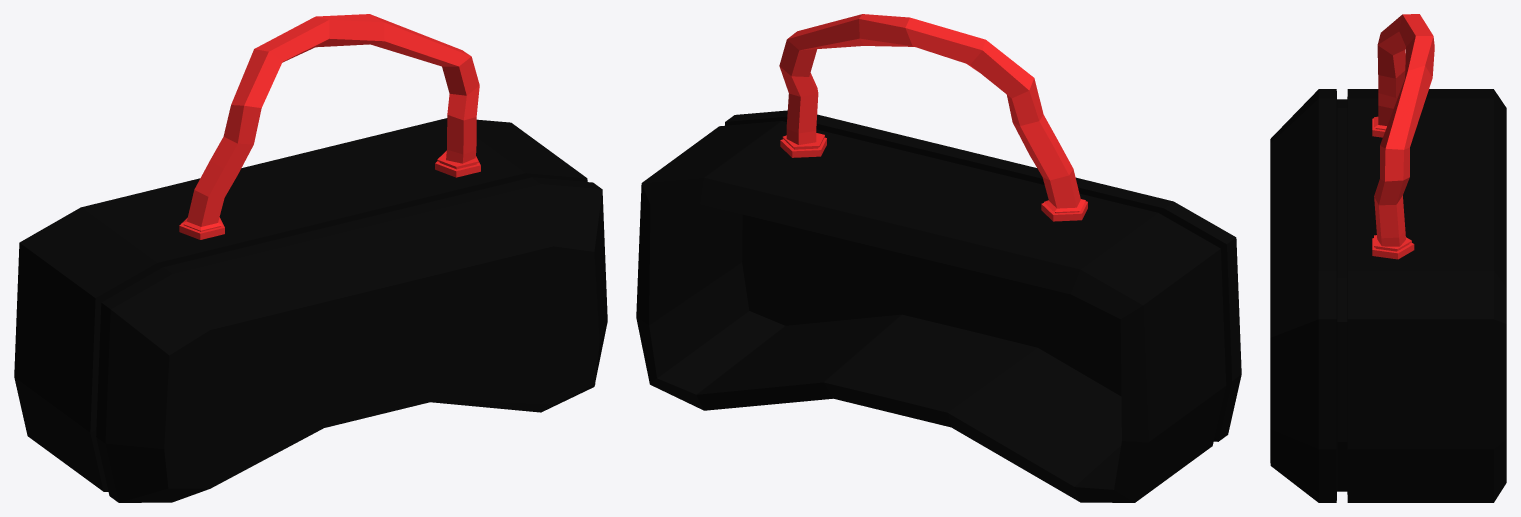
File: ElementVR.fbx
The picture shows the model from 3 angles, left to right: view 1: azimuth 30°, elevation 25°; view 2: azimuth 150°, elevation 25°; view 3: azimuth 270°, elevation 25°; orthographic projection. The views are drawn at different scales.
Visible parts, largest first — view 1: VR; view 2: VR; view 3: VR.
Boxes of the visible parts, x1,y1,x2,y2 form: VR: (14, 14, 607, 502); VR: (636, 14, 1241, 502); VR: (1270, 14, 1506, 502).
Bounding box in the file's own units: 412 × 310 × 175.
